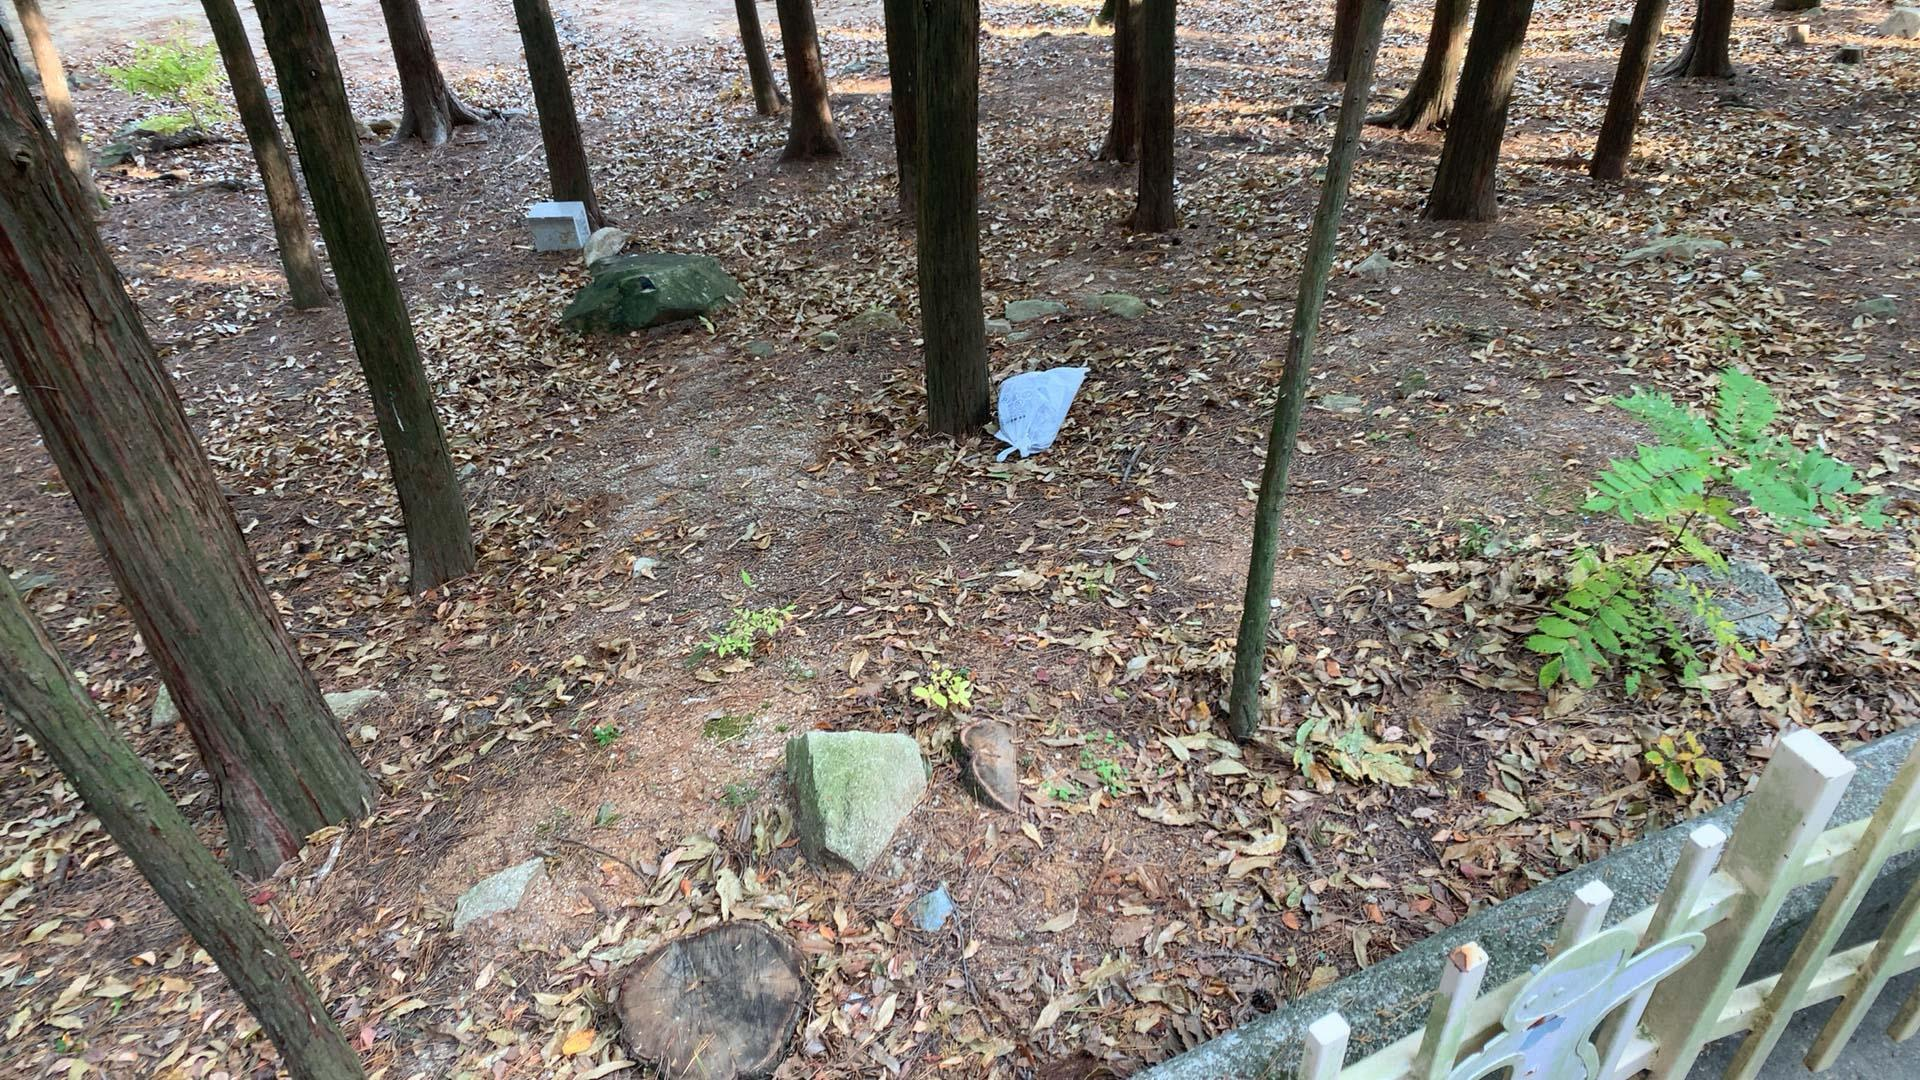white_bag: (986, 357, 1093, 465)
